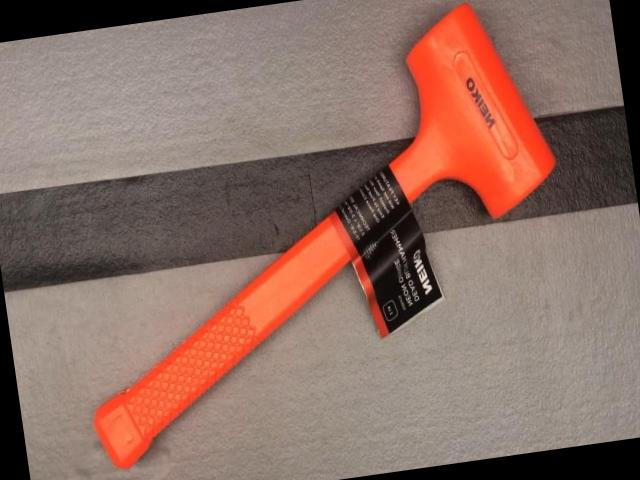hammer: (42, 0, 591, 471)
